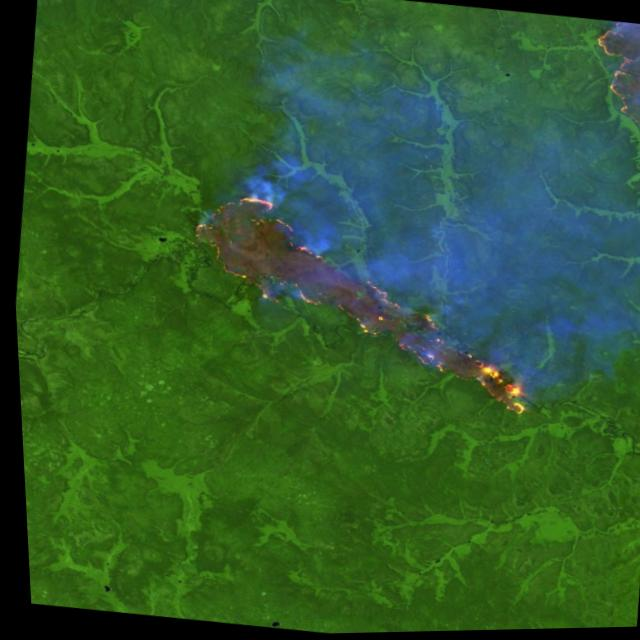fire: (159, 172, 552, 430), (576, 21, 640, 163)
